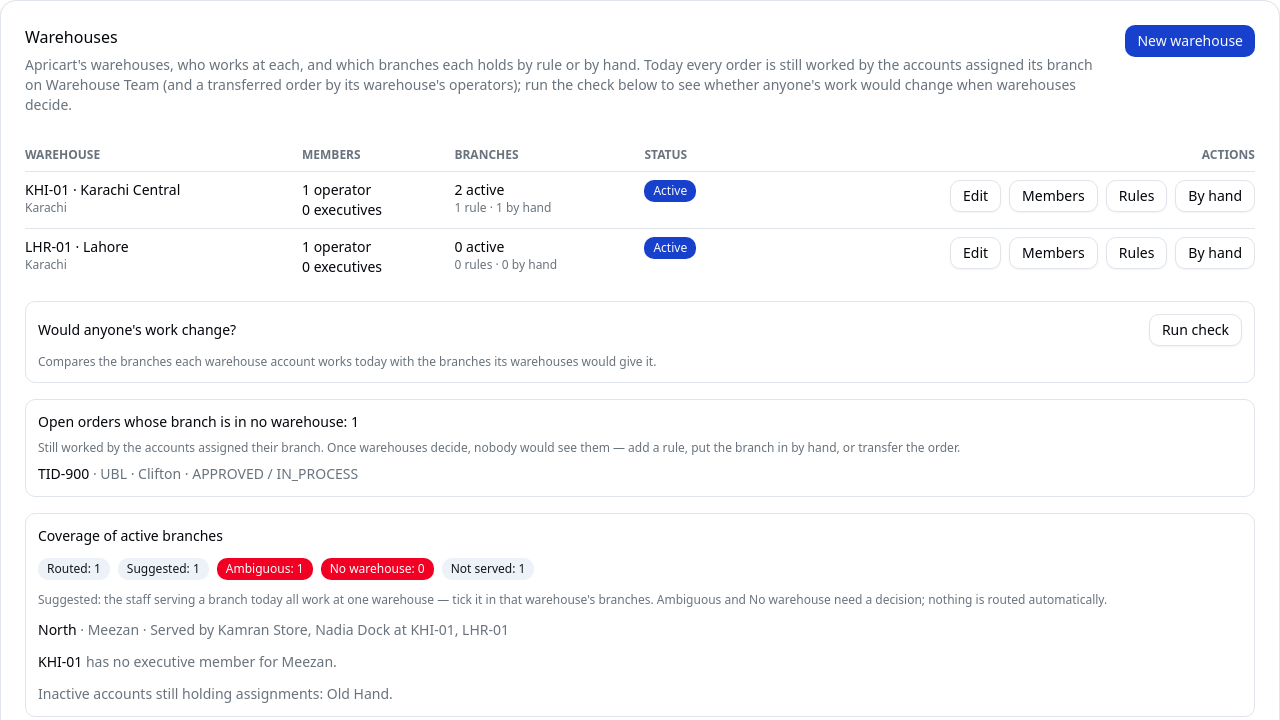
Test: Apricart warehouses › searches the warehouse's rules by organization or city
This screenshot has width=1280, height=720.
Click the button "Rules" in the row of "Karachi Central". click: (1137, 196)
box: [1106,180,1167,212]
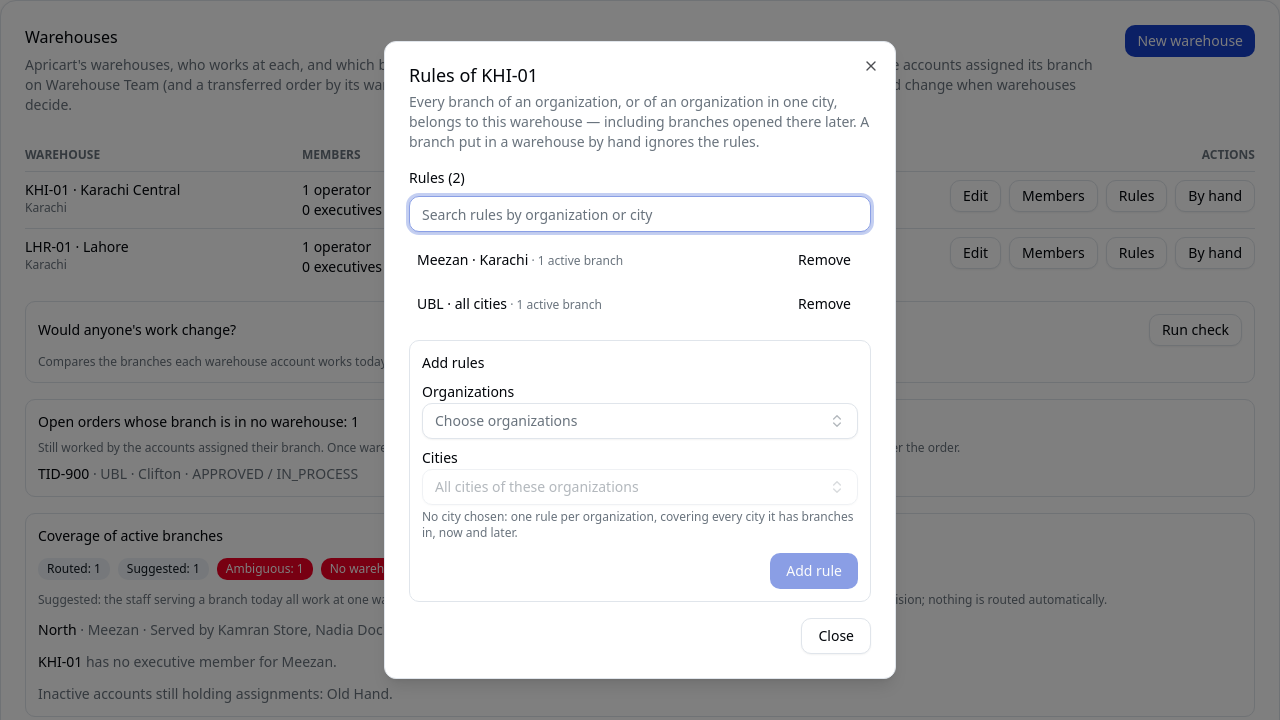
Now the heading "Rules (2)" is shown, box [409,168,465,187]
Type "ubl" into the field labelled "Search rules". click: (640, 214)
box: [409,196,871,232]
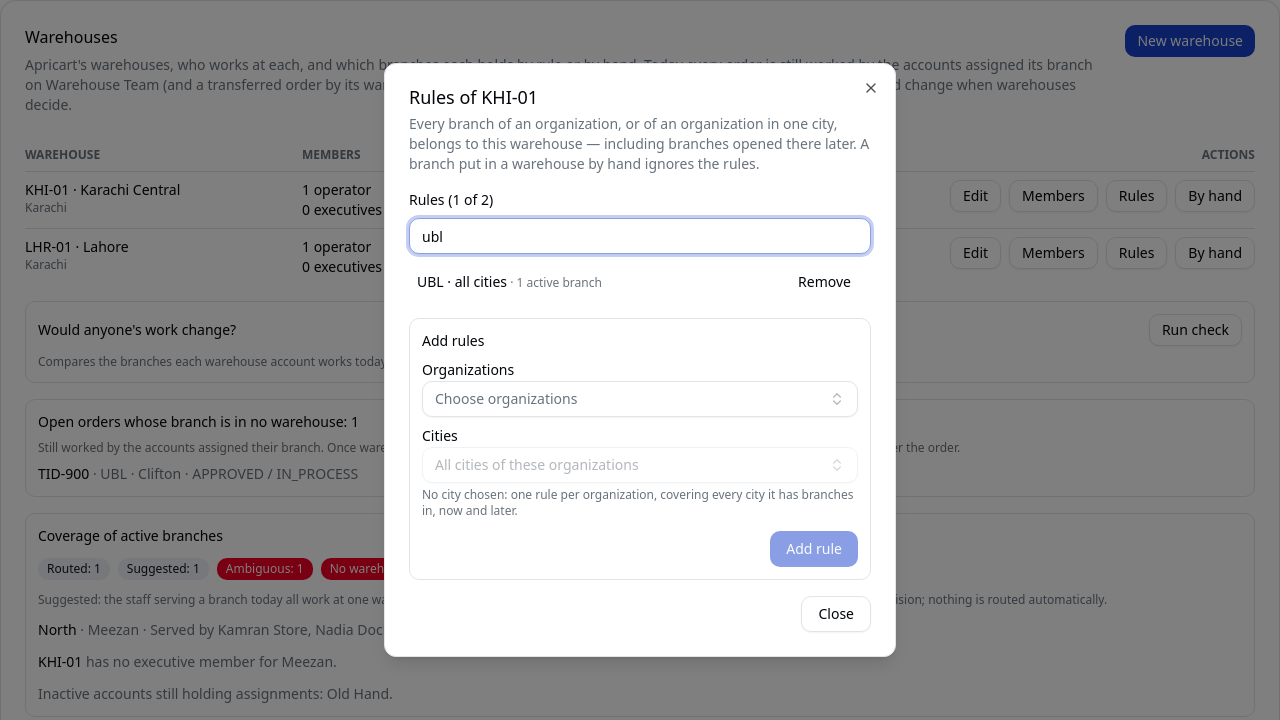
Now the text "UBL · all cities · 1 active branch" is shown, box [417,272,602,292]
Now the heading "Rules (1 of 2)" is shown, box [409,190,493,209]
Now the text "Meezan · Karachi" is gone
Replace the text in the field named "Search rules" with "karachi meezan". click: (640, 236)
box: [409,218,871,254]
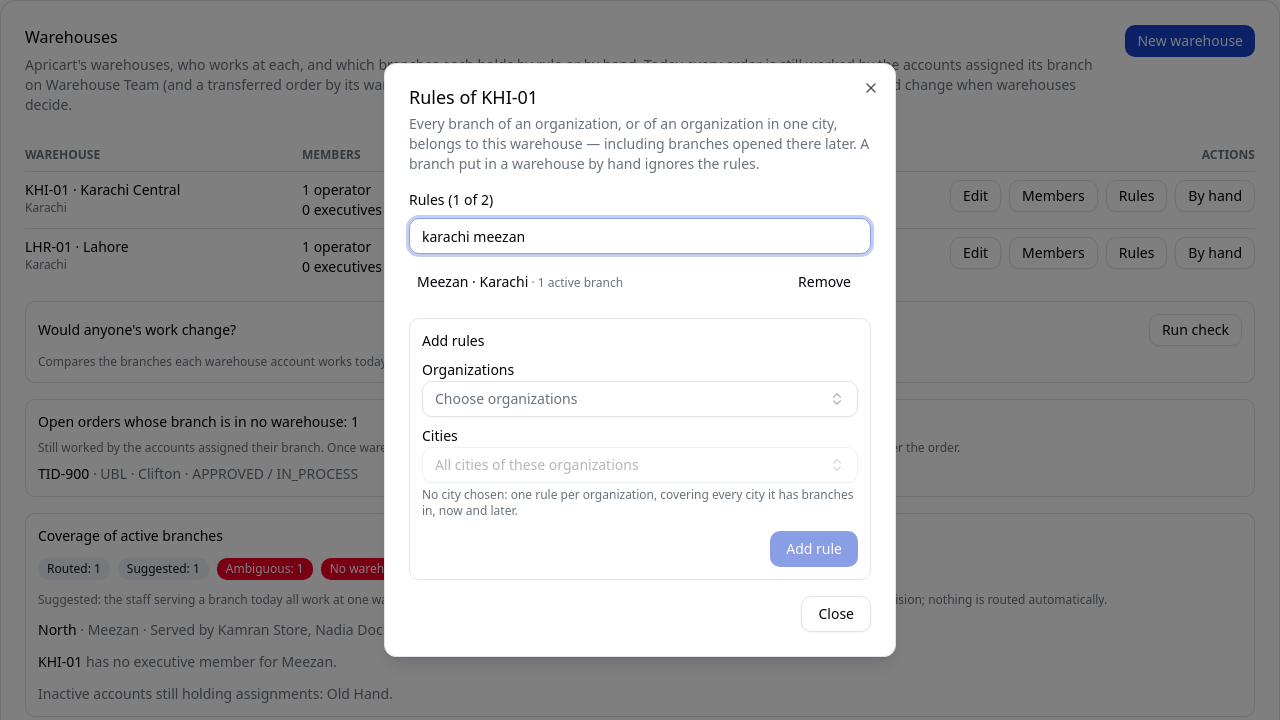
Now the text "Meezan · Karachi · 1 active branch" is shown, box [417,272,623,292]
Replace the text in the field named "Search rules" with "quetta". click: (640, 236)
box: [409,218,871,254]
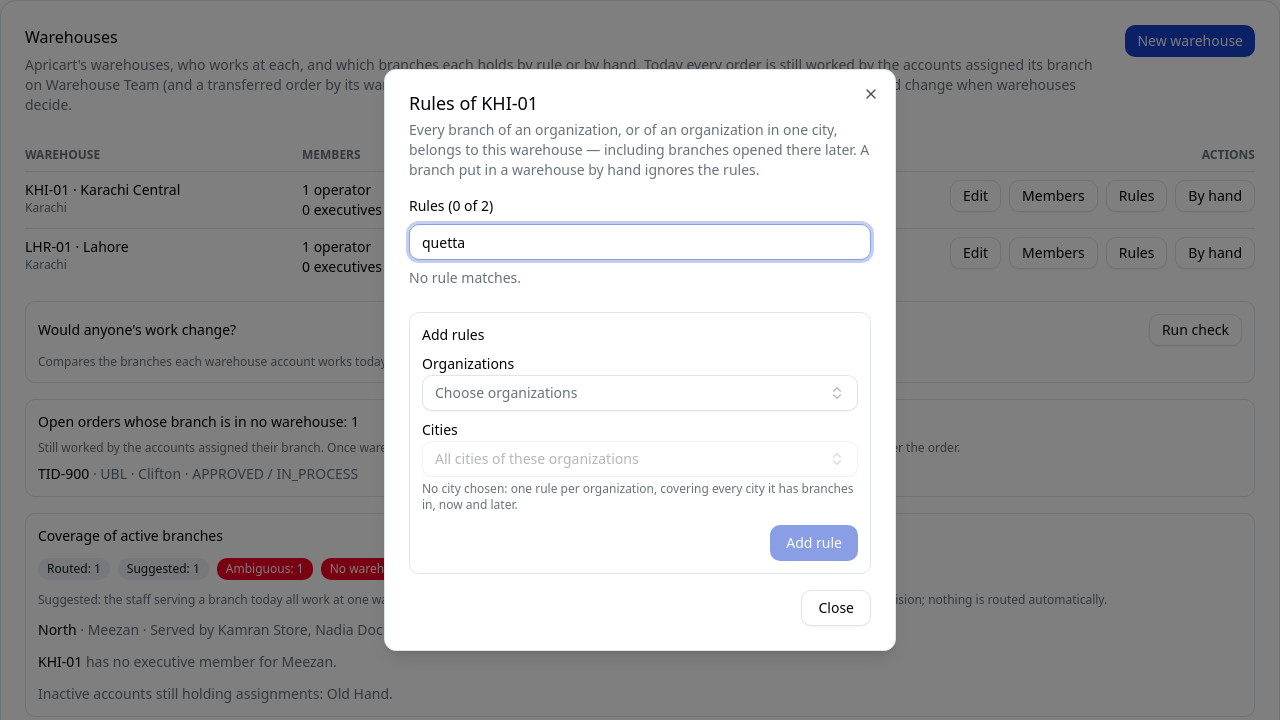
Now the text "No rule matches." is shown, box [409,268,521,287]
